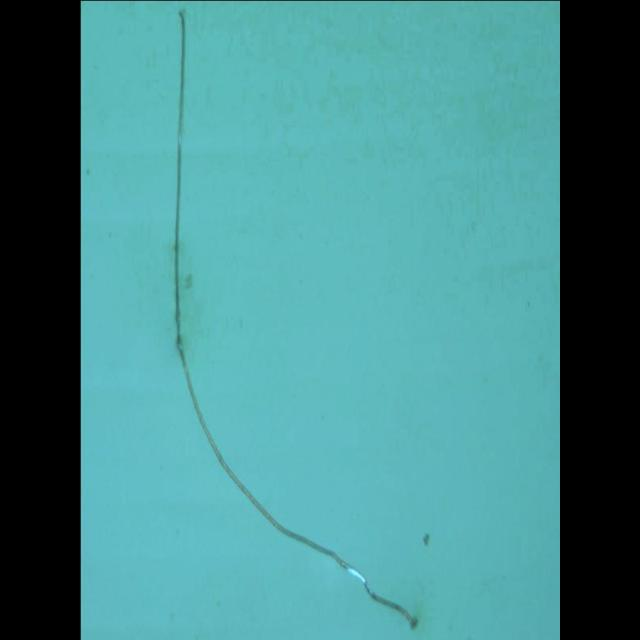Fibre: (170, 6, 418, 630)
